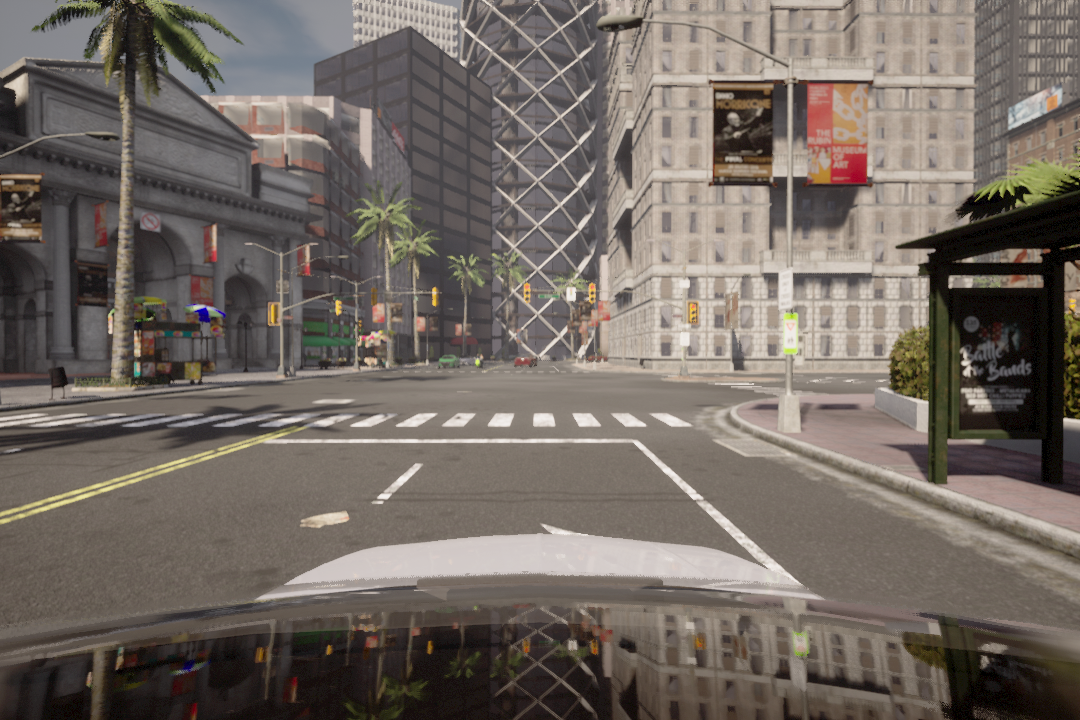TrafficLight: (687, 301, 700, 326), (520, 283, 532, 305), (587, 282, 597, 305)
TrafficSign: (142, 212, 161, 231)
walkside: (2, 402, 717, 444)
